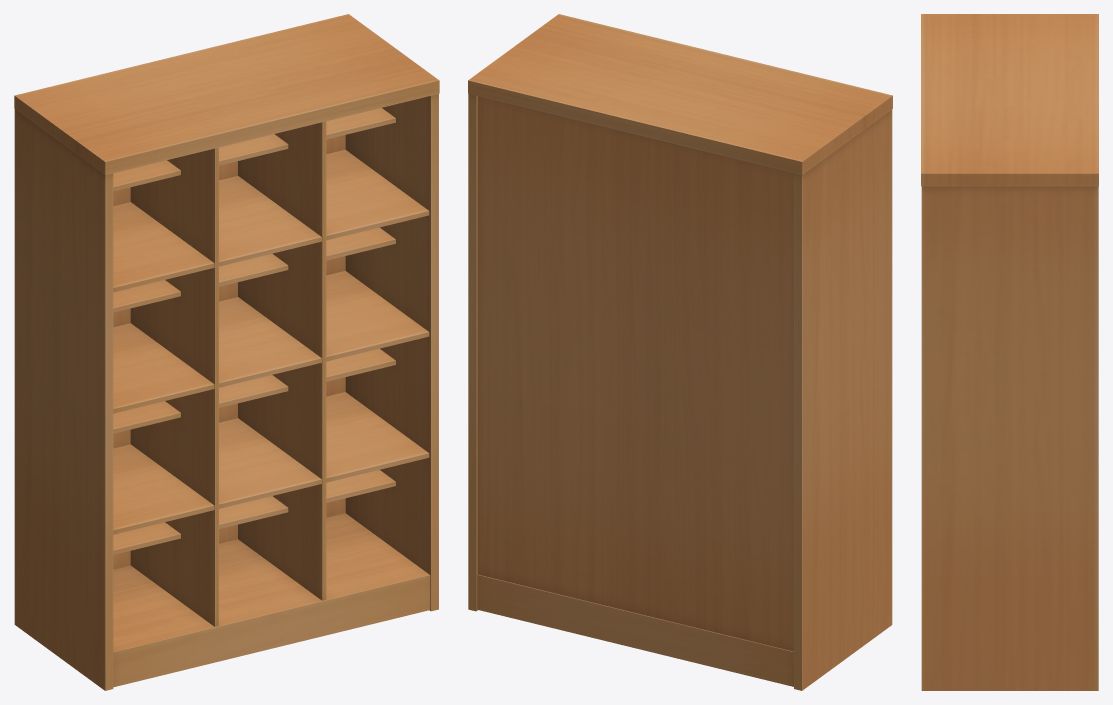
The model's file is set_shoecupboard_b_14.fbx.
3 views of the same model, side by side, from view 1: azimuth 30°, elevation 25°; view 2: azimuth 150°, elevation 25°; view 3: azimuth 270°, elevation 25° (orthographic). The views are drawn at different scales.
Parts seen in each view (by area): view 1: set_shoecupboard_b_14; view 2: set_shoecupboard_b_14; view 3: set_shoecupboard_b_14.
Part boxes in pixels (<box>): set_shoecupboard_b_14: <box>14,14,439,690</box>; set_shoecupboard_b_14: <box>468,14,892,690</box>; set_shoecupboard_b_14: <box>921,14,1098,690</box>.
Size of the model in its own units: 79.39 by 120 by 37.38.
